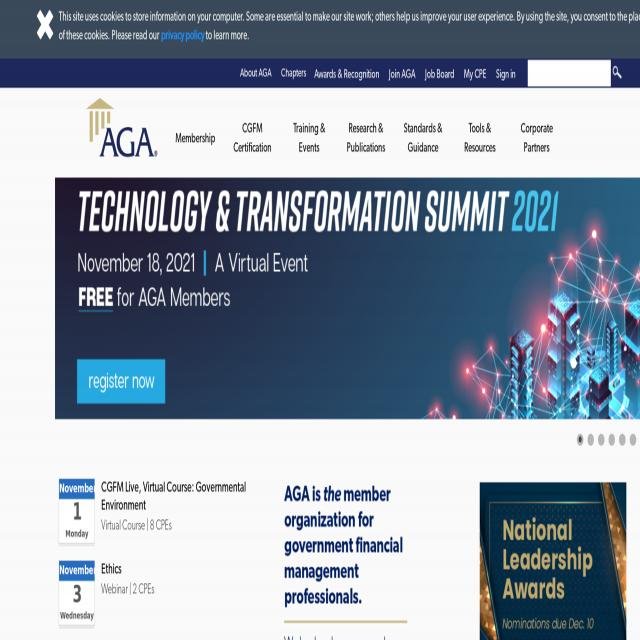button: (55, 176, 640, 418), (480, 482, 626, 640), (86, 98, 157, 158), (77, 359, 165, 404), (310, 59, 385, 88), (420, 59, 459, 88), (384, 59, 420, 88), (459, 59, 491, 88), (240, 58, 272, 86), (492, 59, 520, 88), (35, 7, 55, 41), (282, 58, 306, 86), (611, 61, 624, 84)
field: (527, 60, 611, 86)
